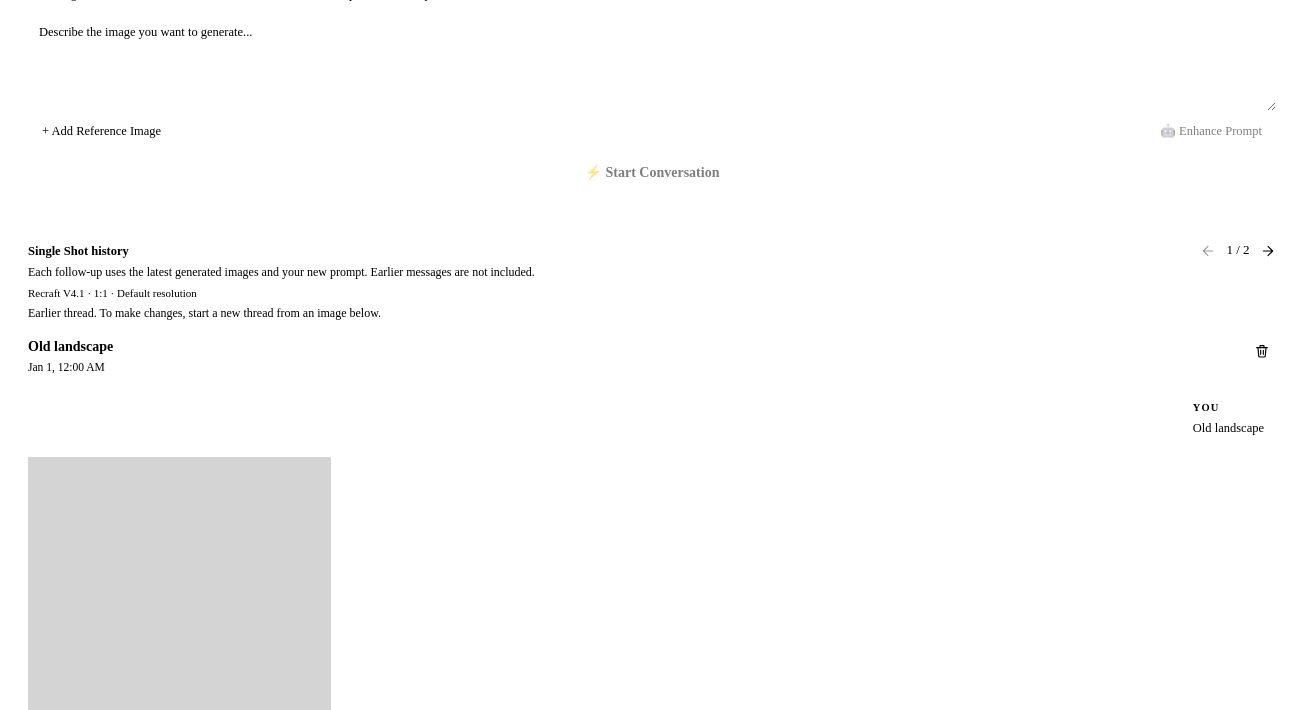
results-pane thread navigation › browses one thread at a time with its own settings, without changing or dispatching the current thread
Earlier steps of the test are not shown.
Later steps or results of the test are not shown.
(page scrolled)
Click the button named "Next thread": coordinates (1268, 251) [1260,243,1276,259]
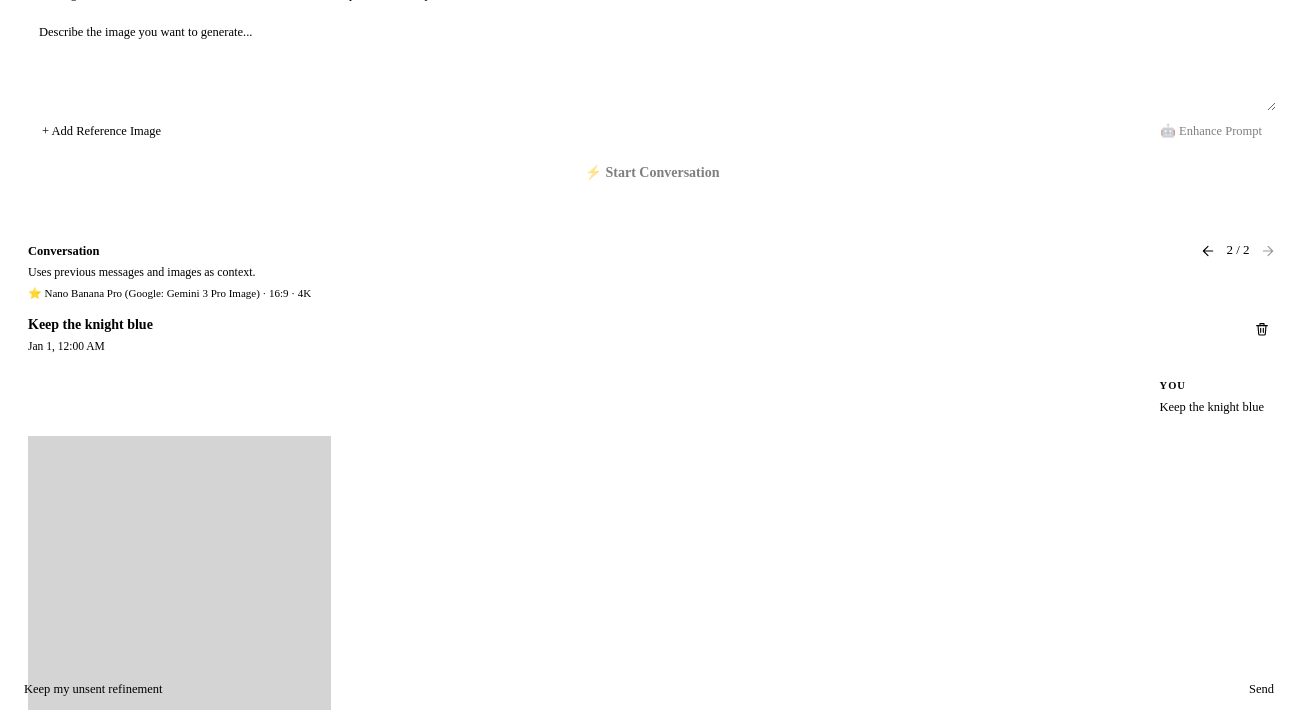
Expected: the text with alt text "Old landscape" is gone
